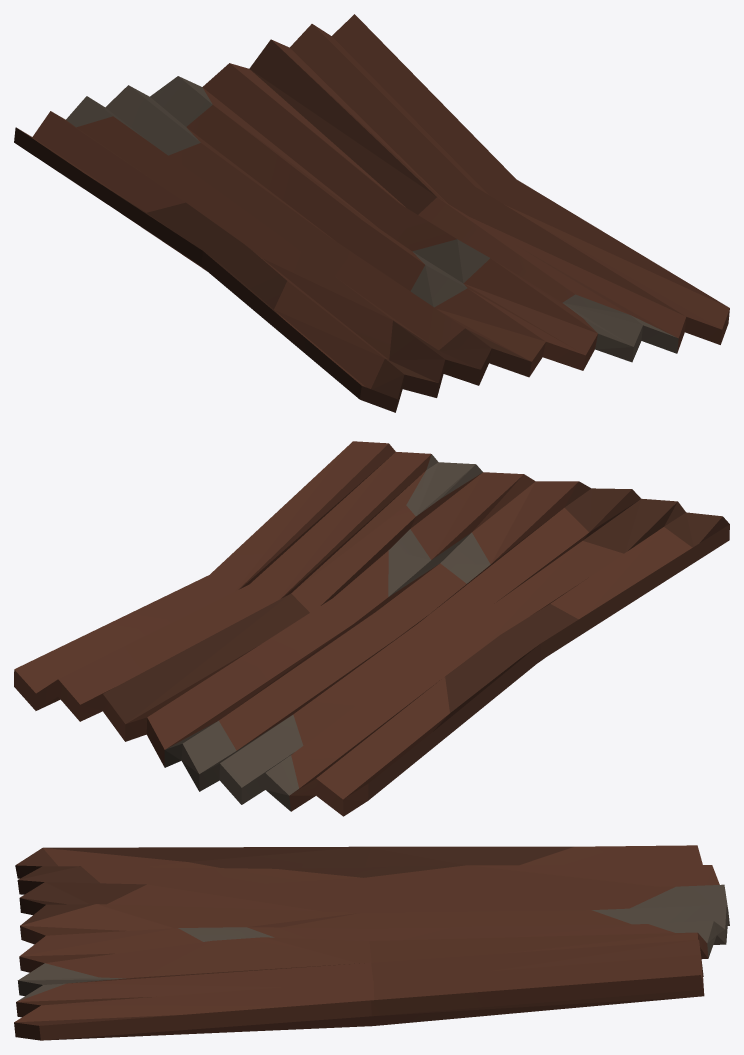
The model's file is SM_Prop_Greeble_Sheet_Metal_04.obj.
The picture shows the model from 3 angles, top to bottom: view 1: azimuth 30°, elevation 25°; view 2: azimuth 150°, elevation 25°; view 3: azimuth 270°, elevation 25°; orthographic projection. The views are drawn at different scales.
Visible parts, largest first — view 1: SM_Prop_Greeble_Sheet_Metal_04_0; view 2: SM_Prop_Greeble_Sheet_Metal_04_0; view 3: SM_Prop_Greeble_Sheet_Metal_04_0.
Part boxes in pixels (box(x1,y1,x2,y2)): SM_Prop_Greeble_Sheet_Metal_04_0: box(14, 14, 729, 412); SM_Prop_Greeble_Sheet_Metal_04_0: box(14, 441, 729, 816); SM_Prop_Greeble_Sheet_Metal_04_0: box(14, 845, 729, 1040).
Size of the model in its own units: 0.9965 by 0.1872 by 1.79.
1 material, 1 textured.
